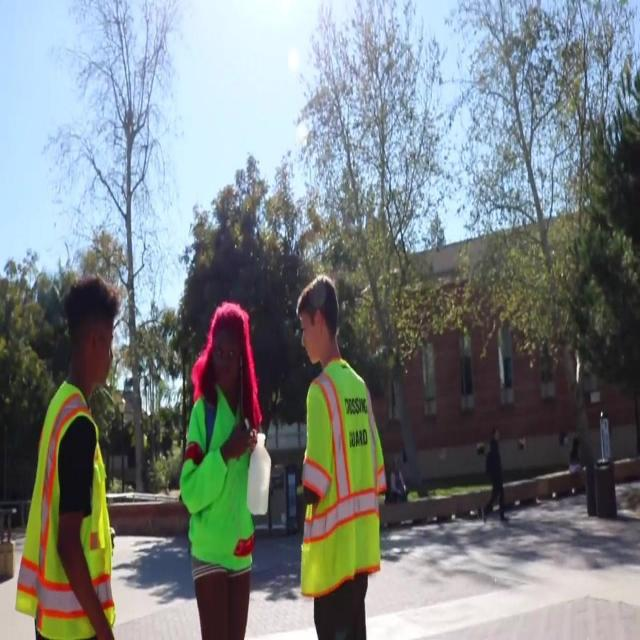vest: (13, 379, 117, 636), (298, 358, 386, 596)
